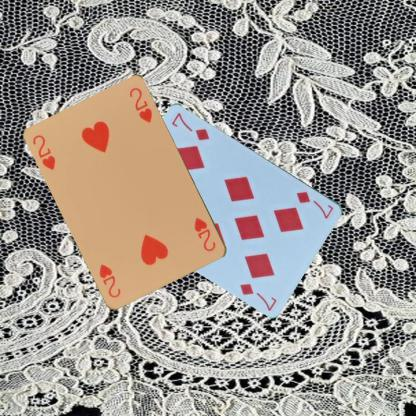2h: (30, 132, 57, 172), (192, 215, 217, 253)
7d: (294, 188, 335, 220)
